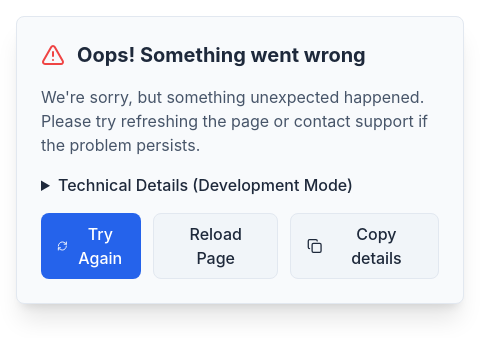
Scenario: ErrorBoundary - Copy details › shows "Copied" after a successful copy
The image size is (481, 338).
Click the button "Copy details".
click(365, 246)  # box x1=290 y1=213 x2=439 y2=279
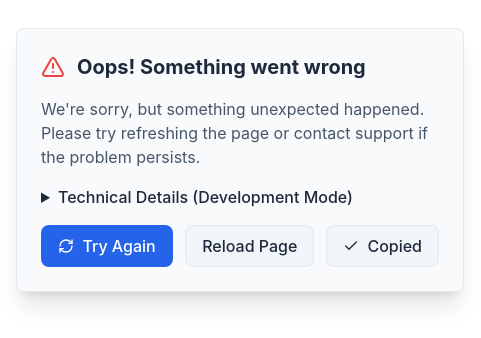
Expected: the button "Copied" is shown, x1=326 y1=225 x2=439 y2=267
